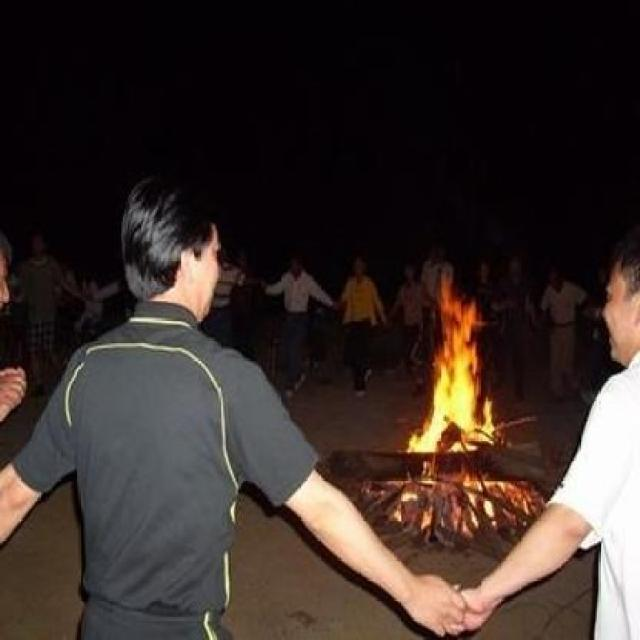Fire: (408, 272, 498, 456), (364, 472, 541, 546)
